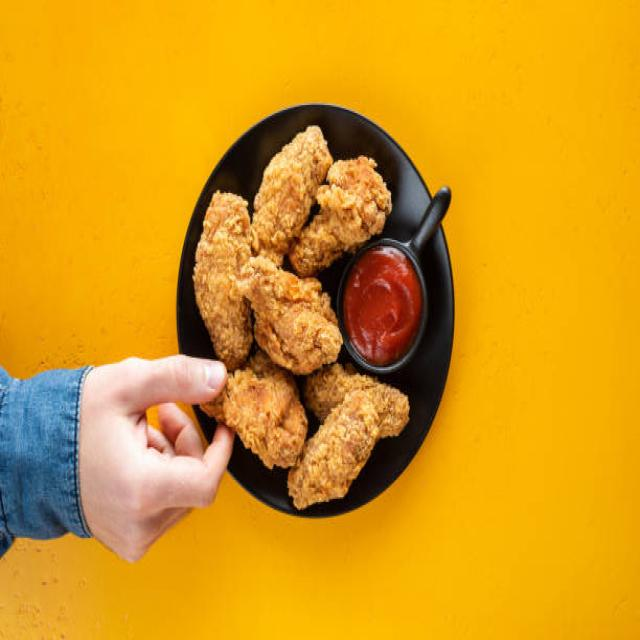Frango: (191, 121, 413, 511)
